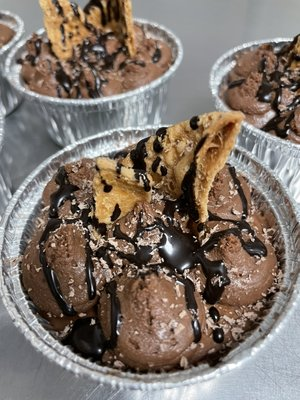sushi: (1, 3, 185, 149)
